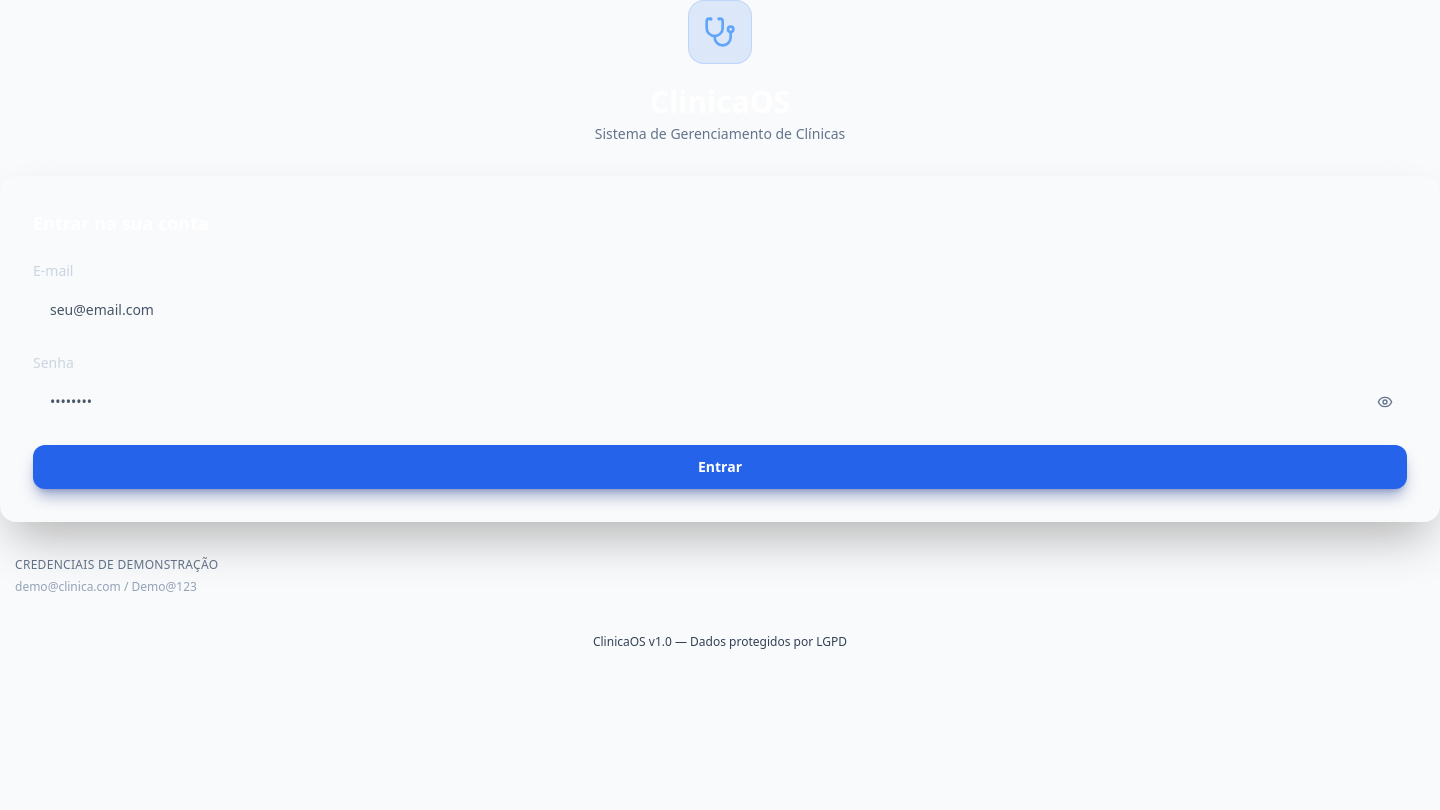
LoginPage › shows validation errors for empty fields
This screenshot has width=1440, height=810.
Step 1. Click the button "Entrar" → {"x": 720, "y": 467}, box x1=33 y1=445 x2=1407 y2=489
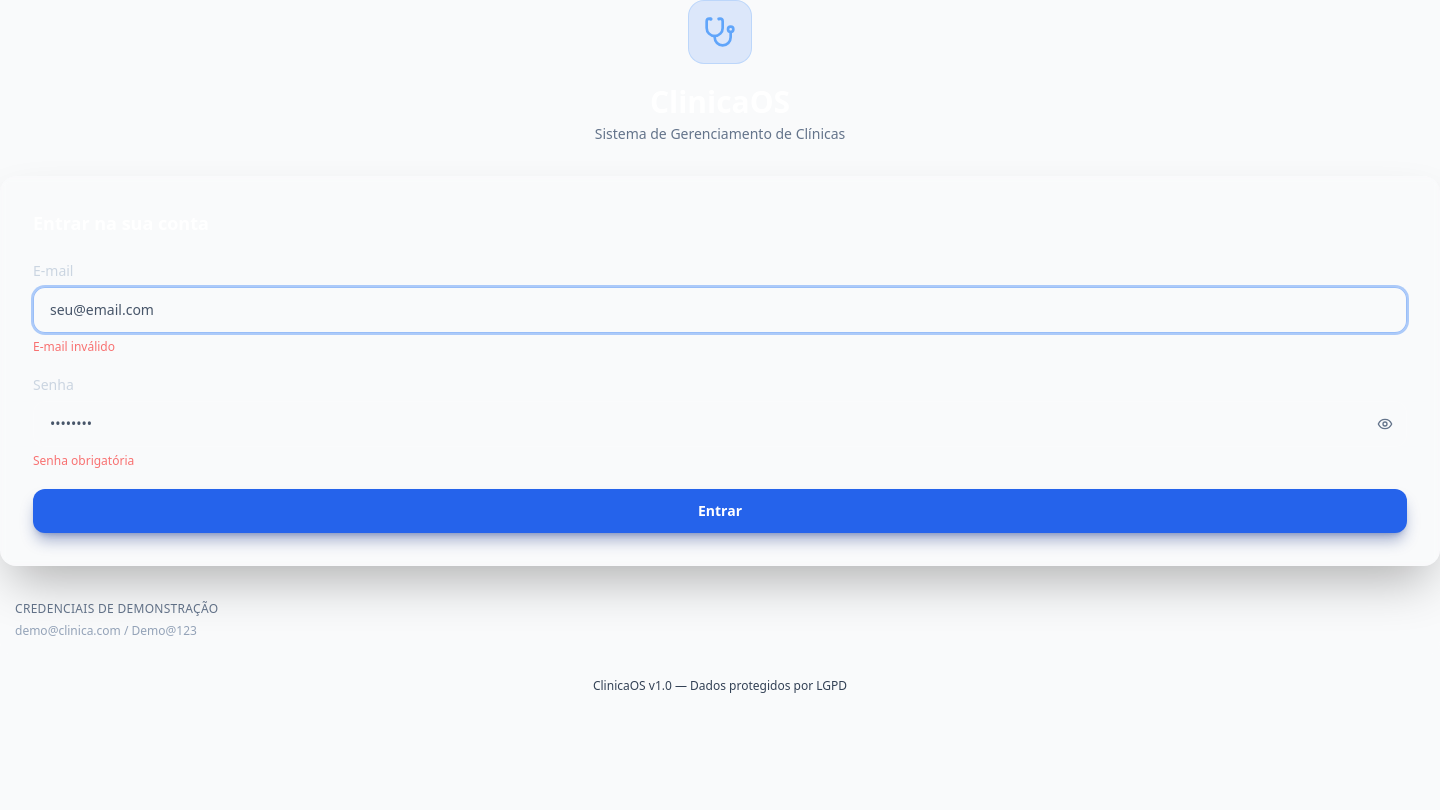
Now the text "E-mail inválido" is shown, box x1=33 y1=338 x2=115 y2=355
Now the text "Senha obrigatória" is shown, box x1=33 y1=452 x2=134 y2=469
